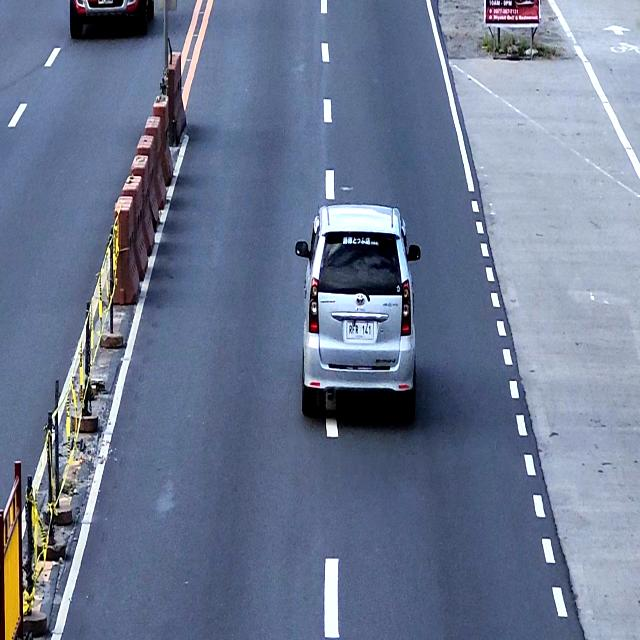Car: (294, 202, 420, 418), (69, 0, 154, 38)
License-Plate: (346, 321, 375, 342)
